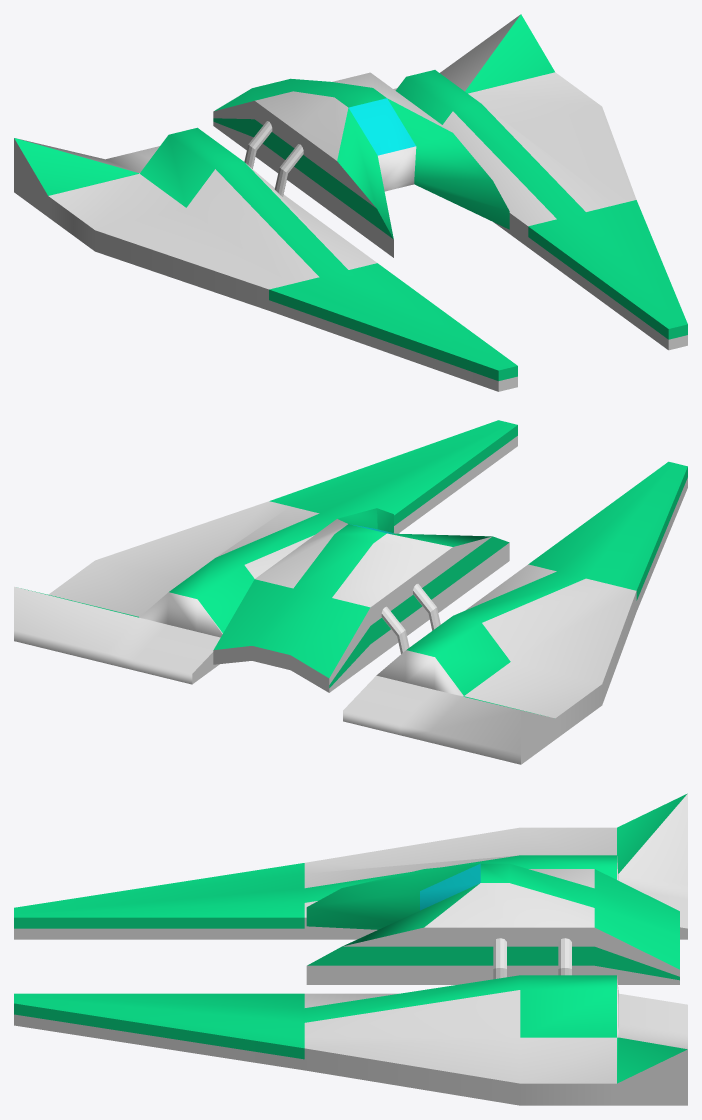
Rendered from Player_SpaceShip.fbx.
3 views of the same model, one above another, from view 1: azimuth 30°, elevation 25°; view 2: azimuth 150°, elevation 25°; view 3: azimuth 270°, elevation 25° (orthographic). The views are drawn at different scales.
Visible parts, largest first — view 1: pCube4; view 2: pCube4; view 3: pCube4.
Part boxes in pixels (x1,y1,x2,y2): pCube4: (14,14,687,391); pCube4: (14,420,687,764); pCube4: (14,793,687,1105).
Bounding box in the file's own units: 438 × 83.2 × 487.
